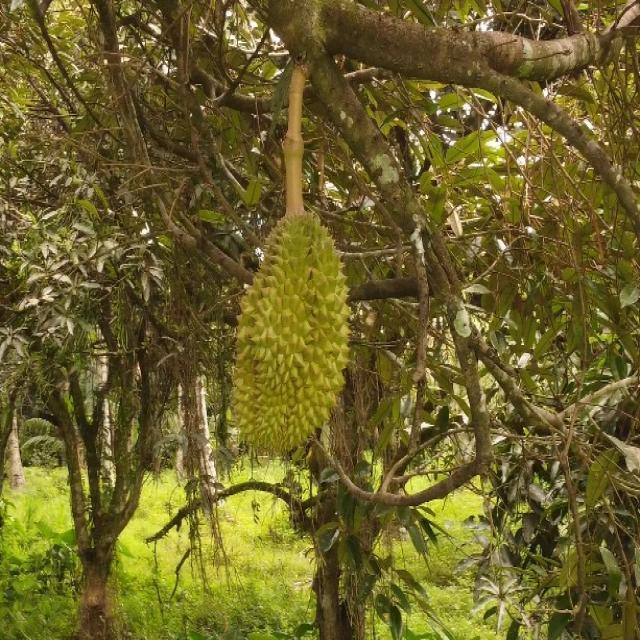immature: (225, 208, 352, 458)
